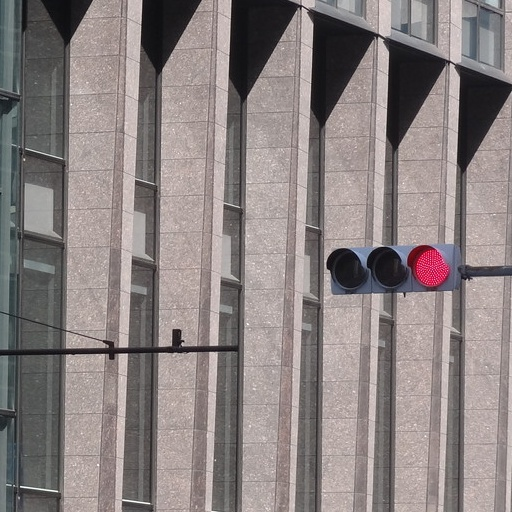Traffic_Signal_Red: (325, 236, 463, 292)
